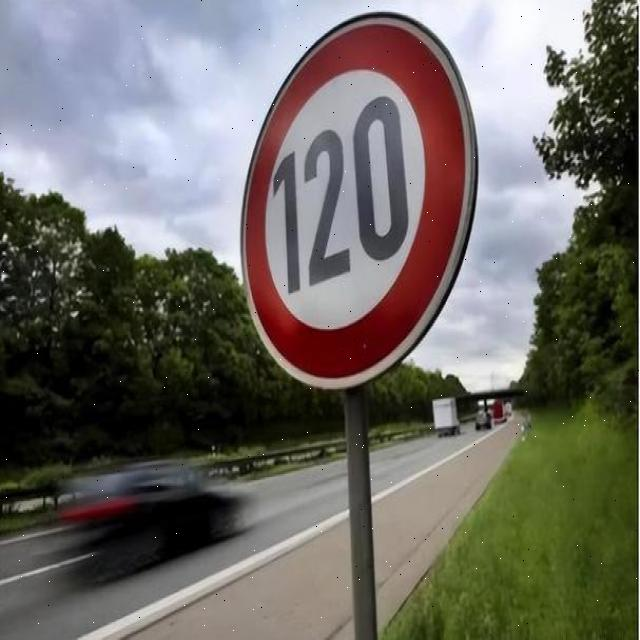speed limit 120: (240, 12, 476, 395)
